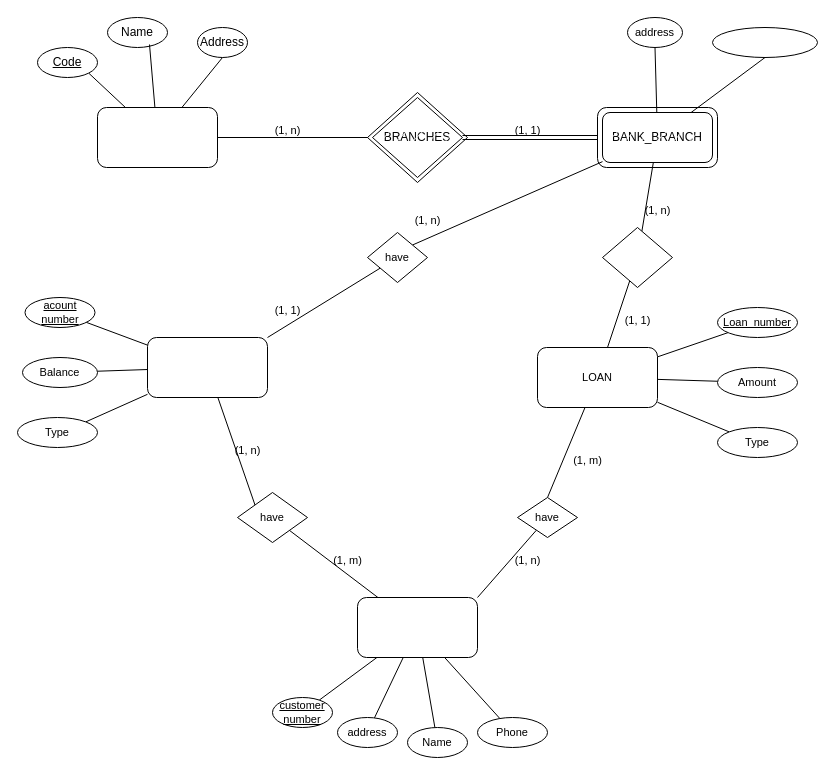
The diagram is 835 pixels wide and 775 high, and some of its shapes have lost their labels. Each missing label, with the centre of its shape:
"ACCOUNT" goes at pixel 207 367.
"BANK" goes at pixel 157 137.
"Branch_number" goes at pixel 765 42.
"CUSTOMER" goes at pixel 417 627.
"Loans" goes at pixel 637 257.
